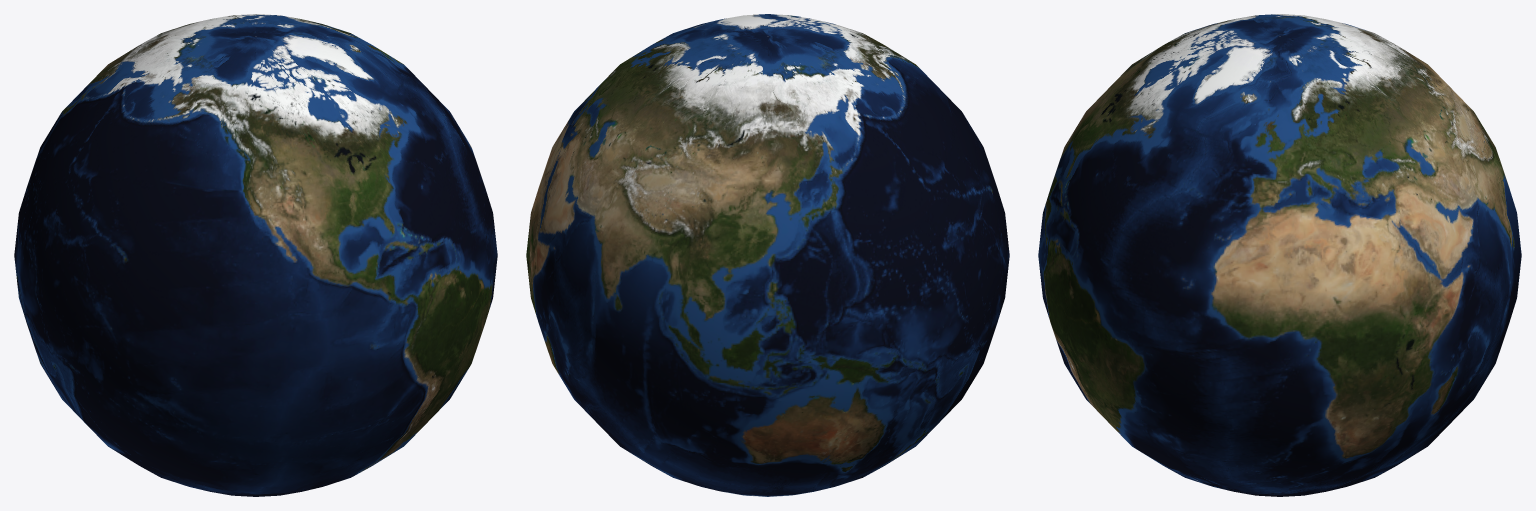
The model's file is earth.dae.
3 renders of one model, left to right at view 1: azimuth 30°, elevation 25°; view 2: azimuth 150°, elevation 25°; view 3: azimuth 270°, elevation 25°, orthographic.
Visible parts, largest first — view 1: Mesh1_sphere01_2_1_skp1DFA1_Model_001; view 2: Mesh1_sphere01_2_1_skp1DFA1_Model_001; view 3: Mesh1_sphere01_2_1_skp1DFA1_Model_001.
Part boxes in pixels (x1,y1,x2,y2): Mesh1_sphere01_2_1_skp1DFA1_Model_001: (14, 14, 497, 496); Mesh1_sphere01_2_1_skp1DFA1_Model_001: (526, 14, 1009, 496); Mesh1_sphere01_2_1_skp1DFA1_Model_001: (1038, 14, 1521, 496).
Size of the model in its own units: 2 by 2 by 2.
1 material, 1 textured.
